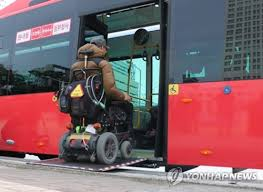out: (60, 2, 187, 183)
